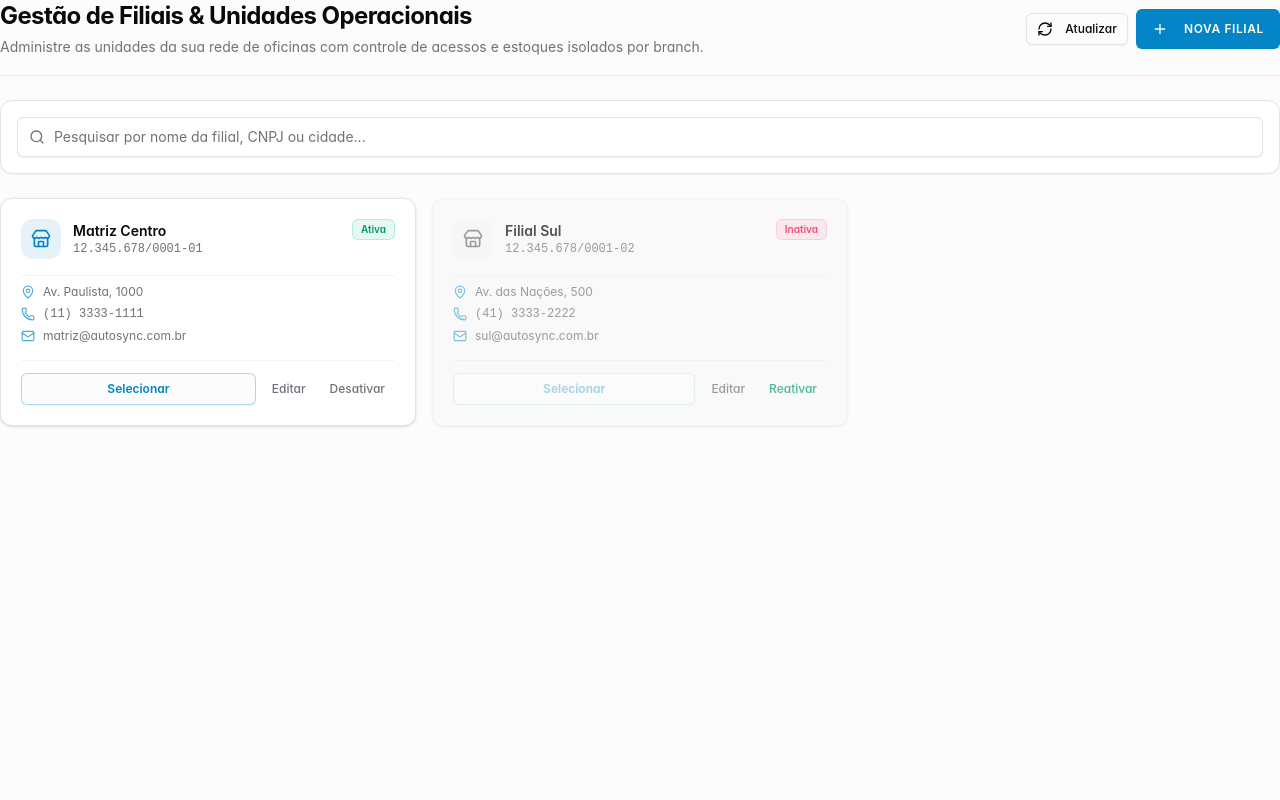
it: Branches Module (Integrated Management) › 5. should open confirm dialog when toggling branch active status
The width and height of the screenshot is (1280, 800).
Expected: the heading "Matriz Centro" is shown, [73, 221, 166, 241]
Click the button "Desativar" at (357, 389), box [320, 373, 395, 405]
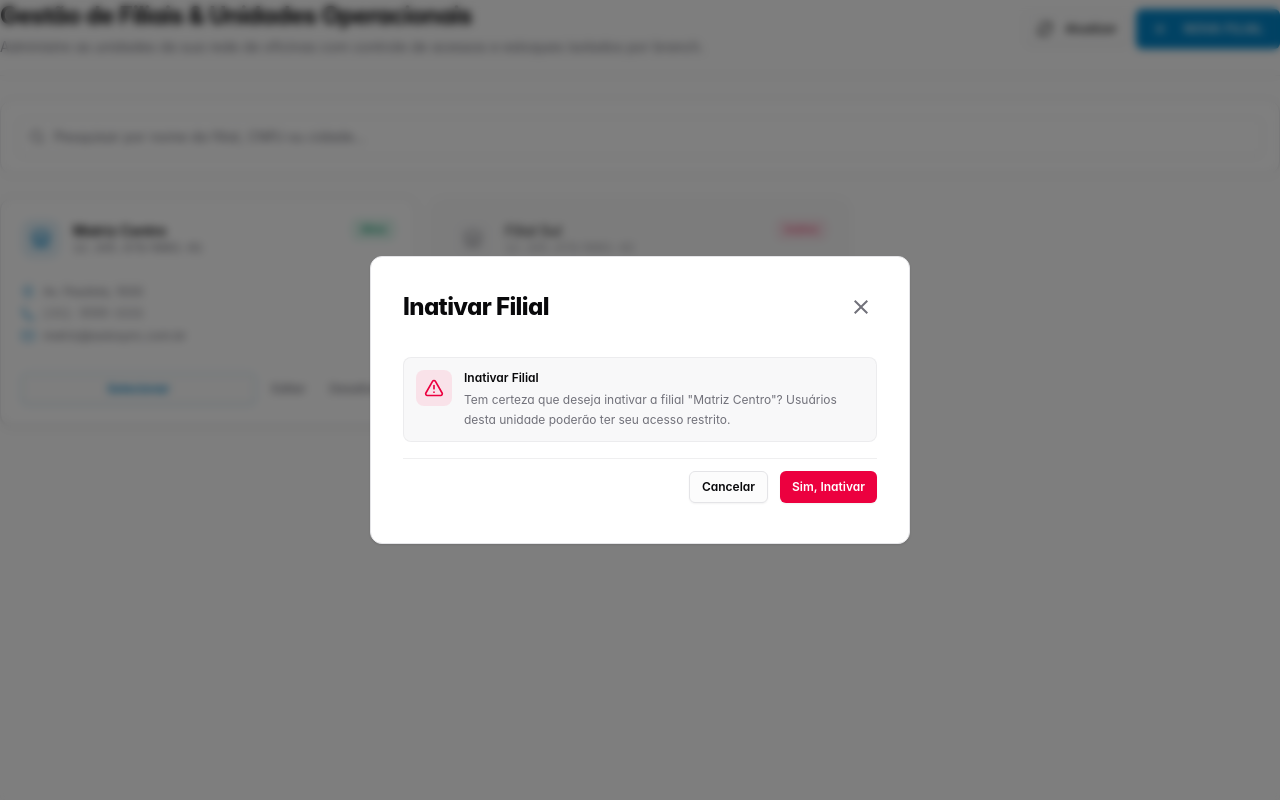
Now the button "Sim, Inativar" is shown, box [780, 471, 877, 503]
